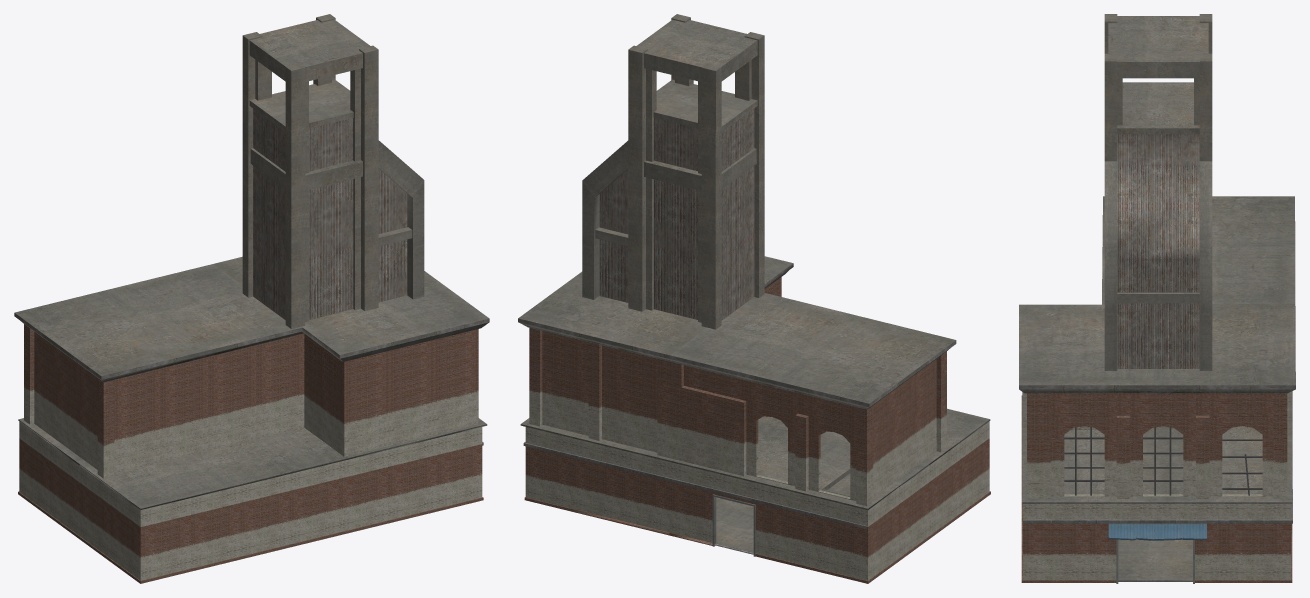
The model's file is Building_HeiygcFz05_2048.glb.
3 views of the same model, side by side, from view 1: azimuth 30°, elevation 25°; view 2: azimuth 150°, elevation 25°; view 3: azimuth 270°, elevation 25° (orthographic). The views are drawn at different scales.
Visible parts, largest first — view 1: xiutz_heiygc_fz_05; view 2: xiutz_heiygc_fz_05; view 3: xiutz_heiygc_fz_05.
Boxes of the visible parts, bbox=[...] form: xiutz_heiygc_fz_05: bbox=[14, 14, 489, 583]; xiutz_heiygc_fz_05: bbox=[518, 14, 990, 583]; xiutz_heiygc_fz_05: bbox=[1019, 14, 1295, 583].
Size of the model in its own units: 28.27 by 32.54 by 16.8.
Materials: 1 (1 with a texture image).
